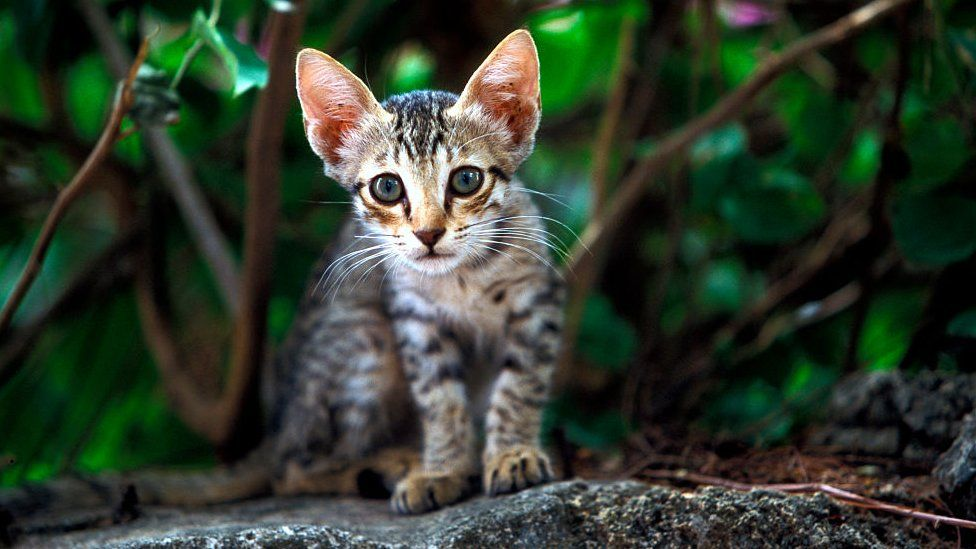Cat: (260, 8, 588, 531)
